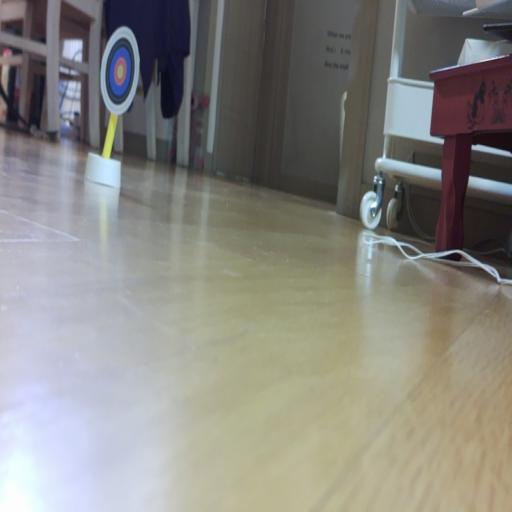target: (100, 26, 140, 115)
